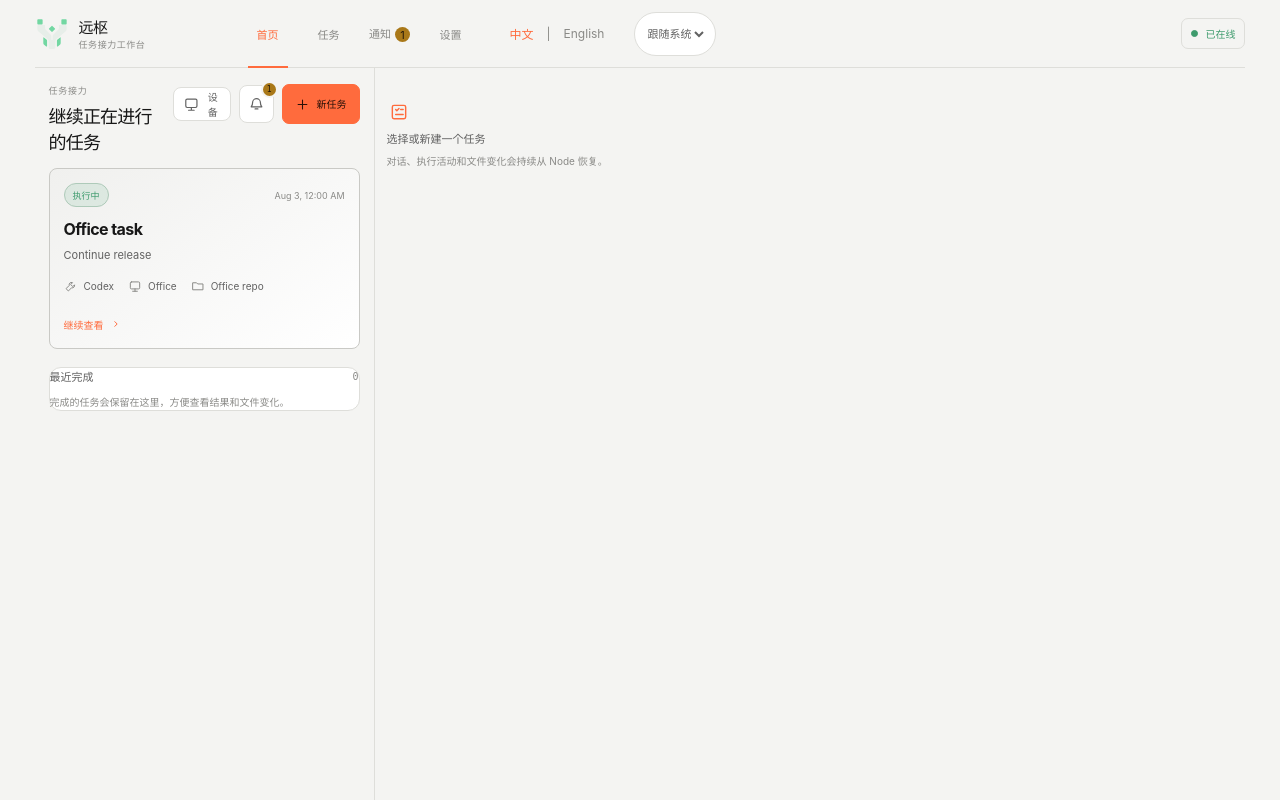
Test: personal workbench › protects an unsent task draft during application and browser navigation
Click the button with aria-label "继续任务 Office task".
click(86, 195)  # box [48,168,360,349]
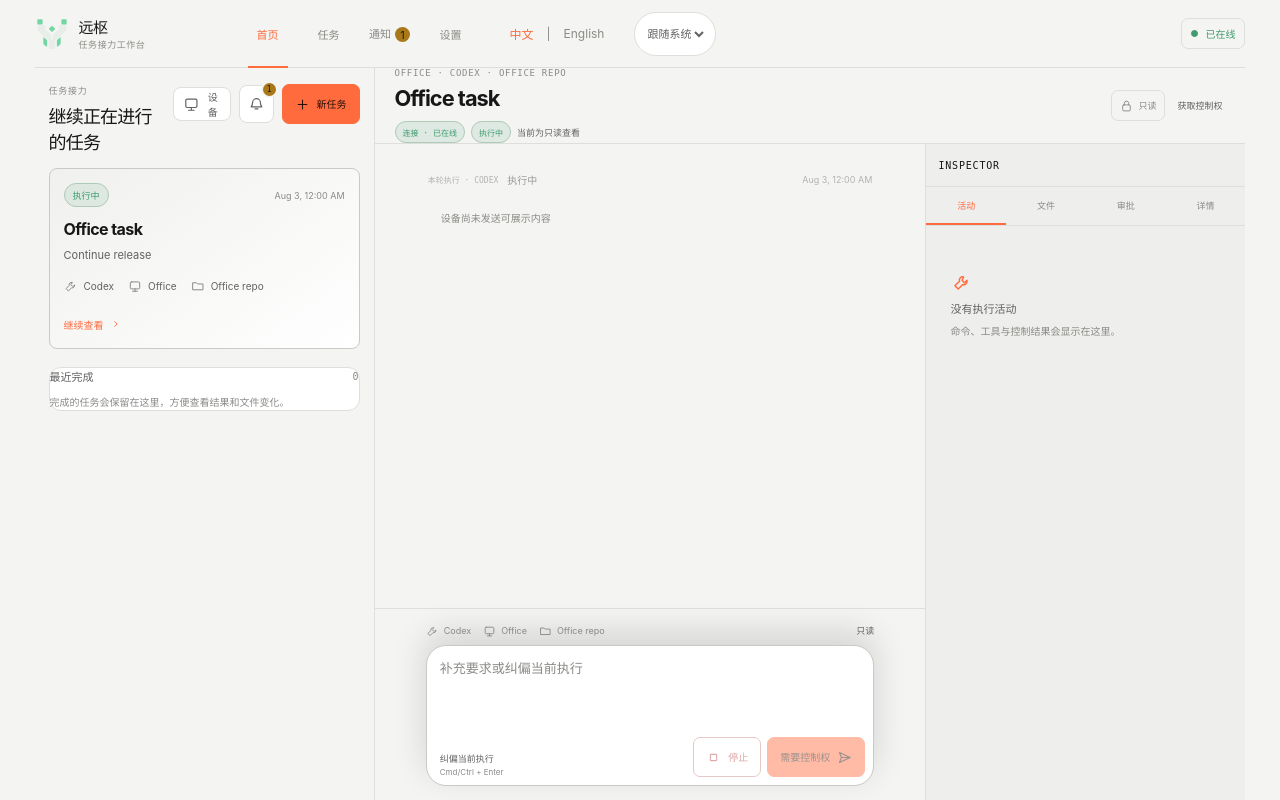
Expected: the heading "Office task" is shown, [394,85,499,111]
Type "unfinished guidance" into the text box named "任务指令".
click(650, 688); type("unfinished guidance")  # box [427,646,873,730]
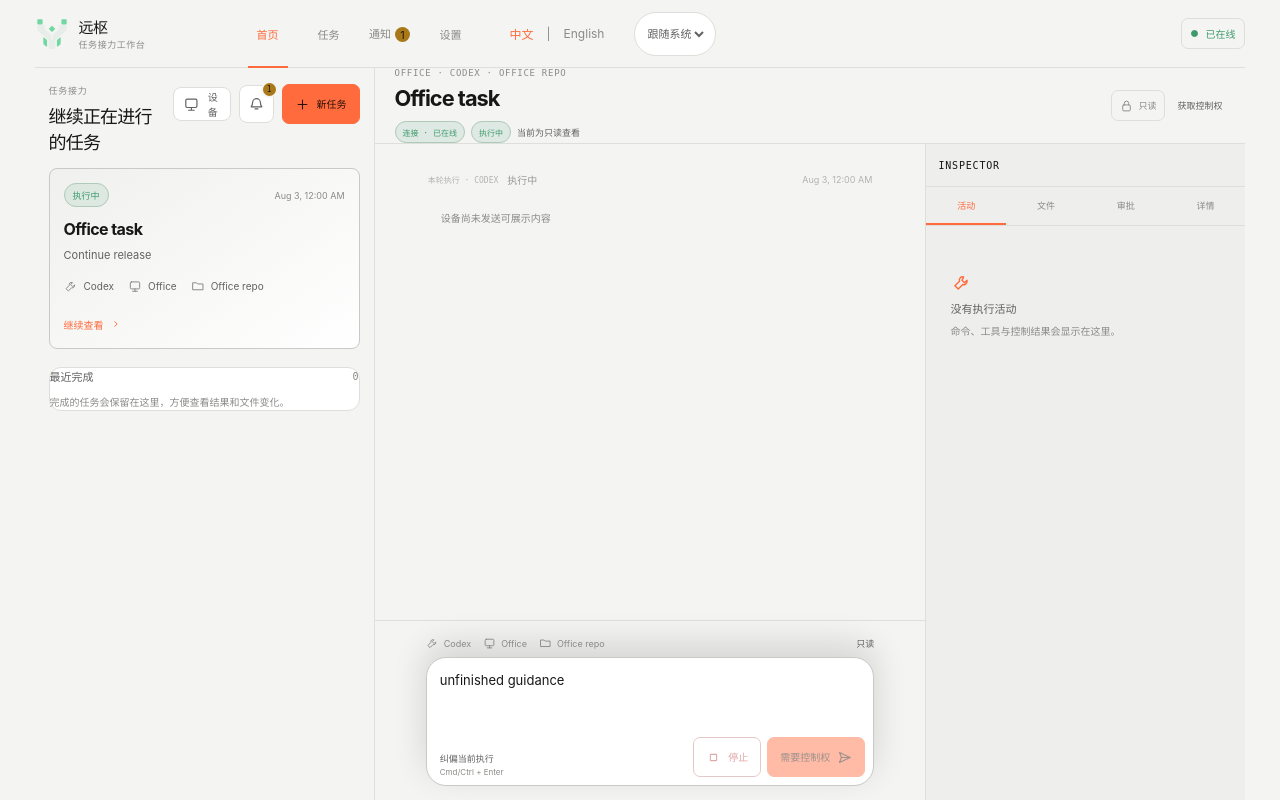
Click the button "设置".
click(450, 34)  # box [422,0,480,67]
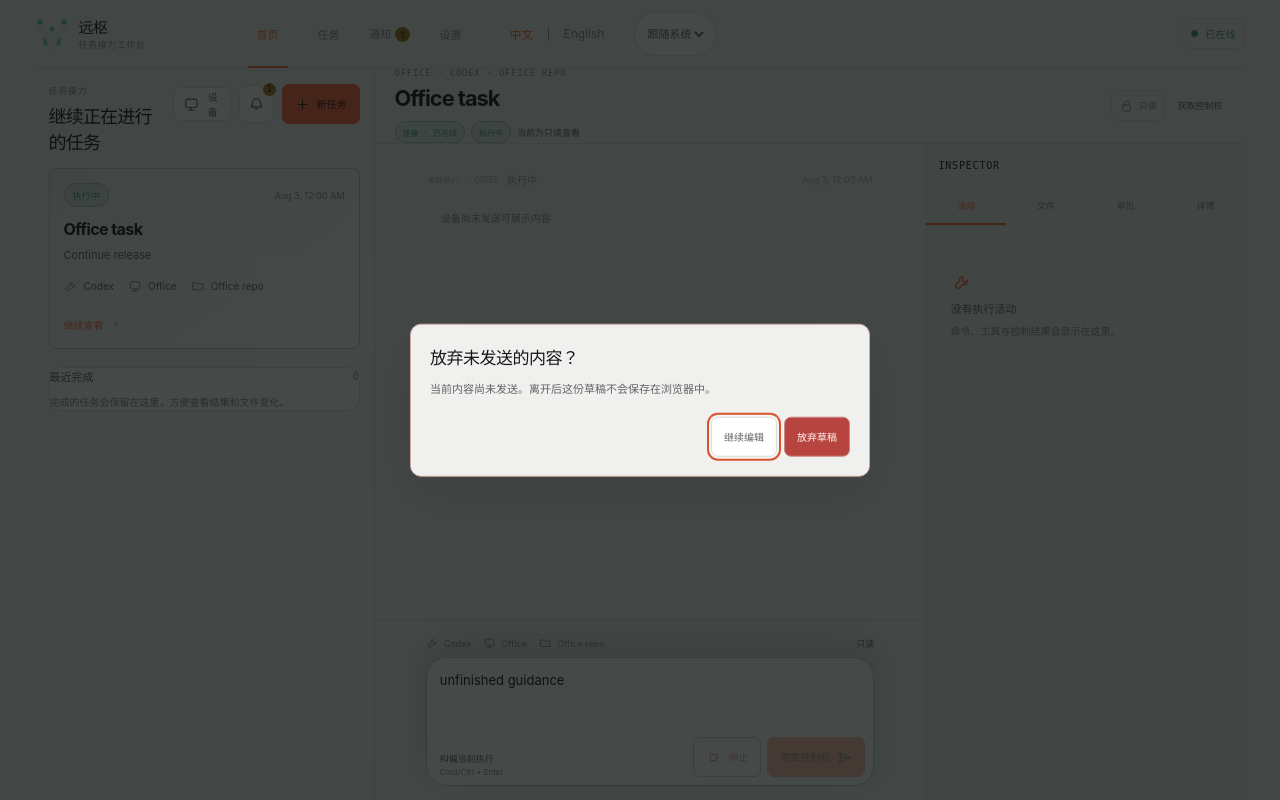
Expected: the dialog "放弃未发送的内容？" is shown, [410,324,870,476]
Click the button "继续编辑".
click(744, 436)  # box [711,416,777,456]
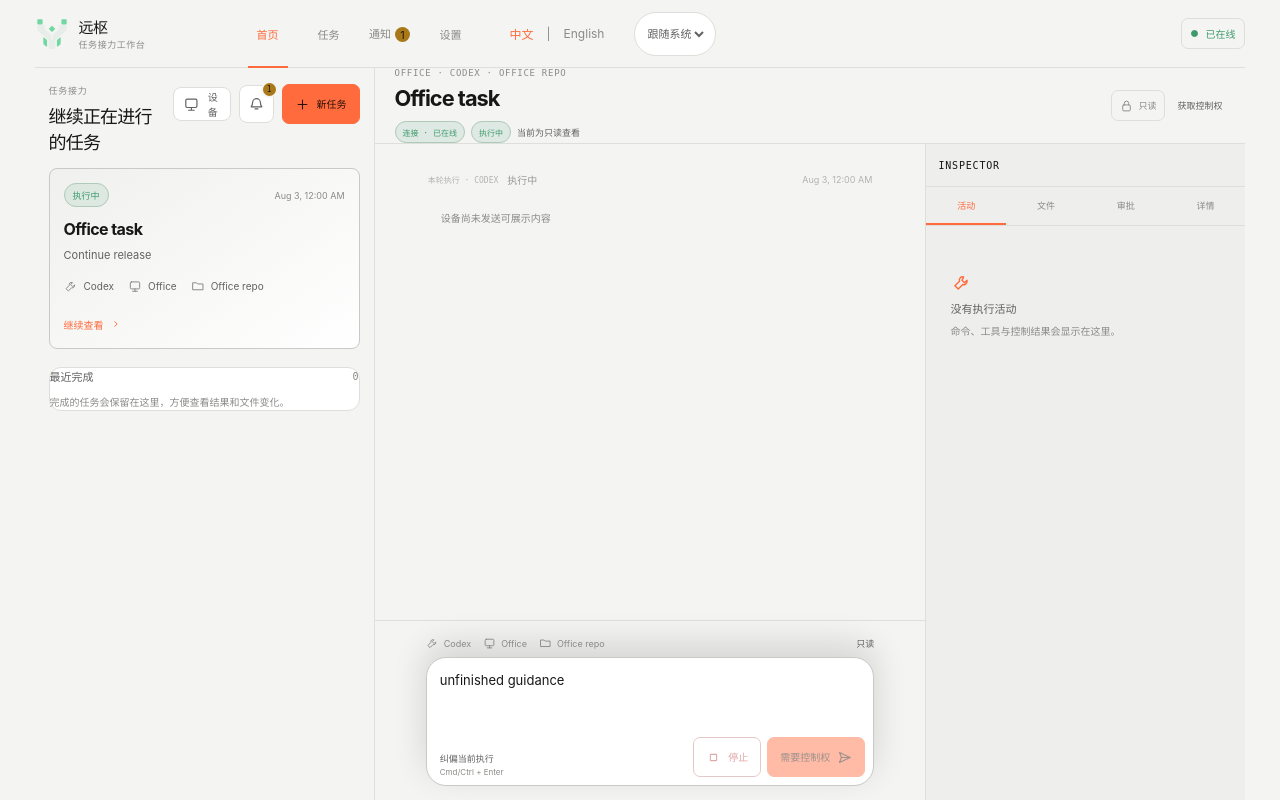
Click the button "设置".
click(450, 34)  # box [422,0,480,67]
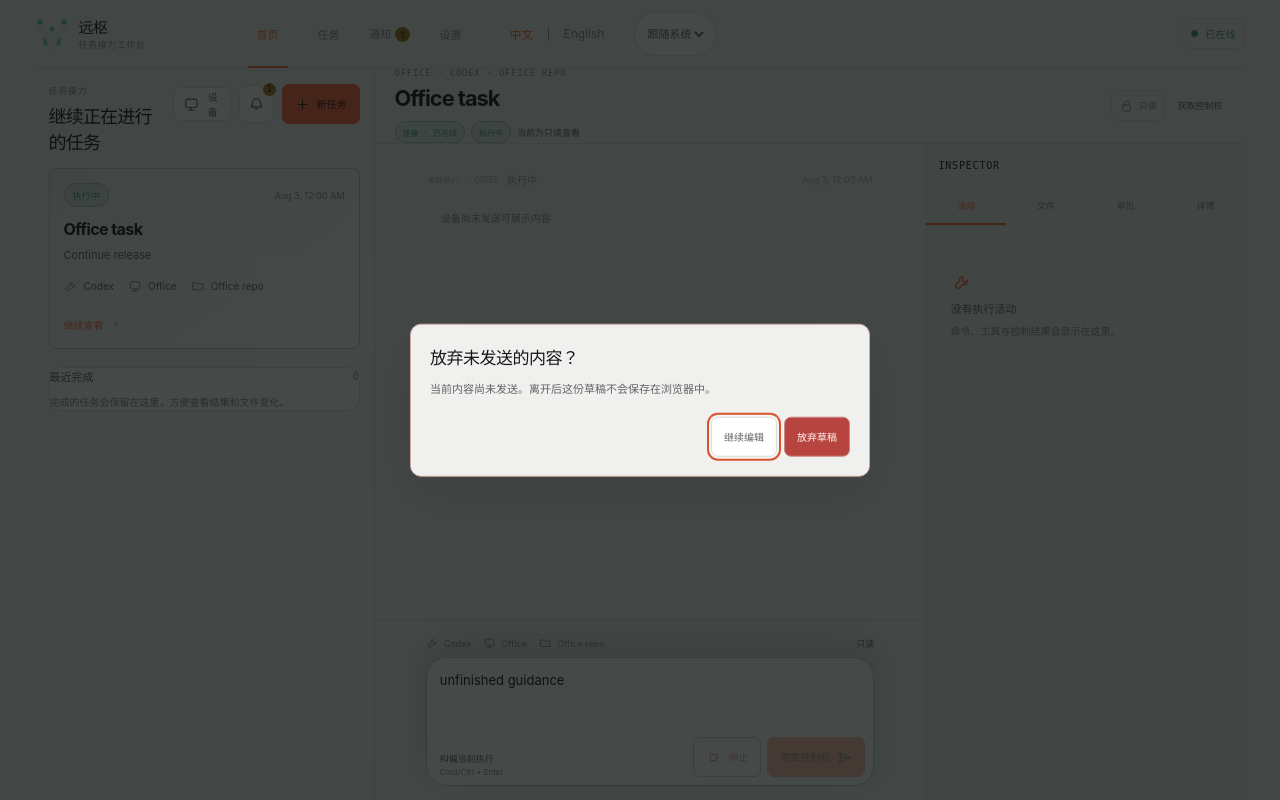
Click the button "放弃草稿".
click(817, 436)  # box [784,416,850,456]
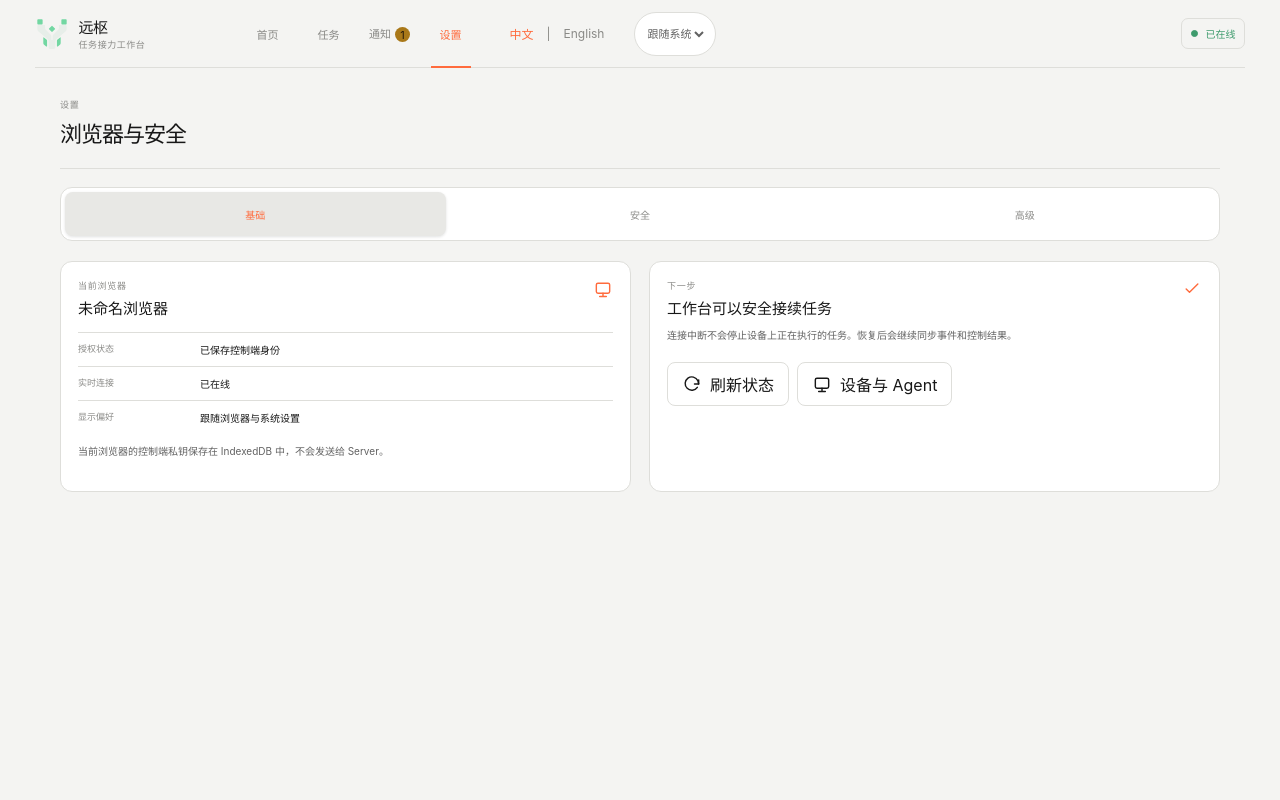
Expected: the heading "浏览器与安全" is shown, [60,116,186,148]
